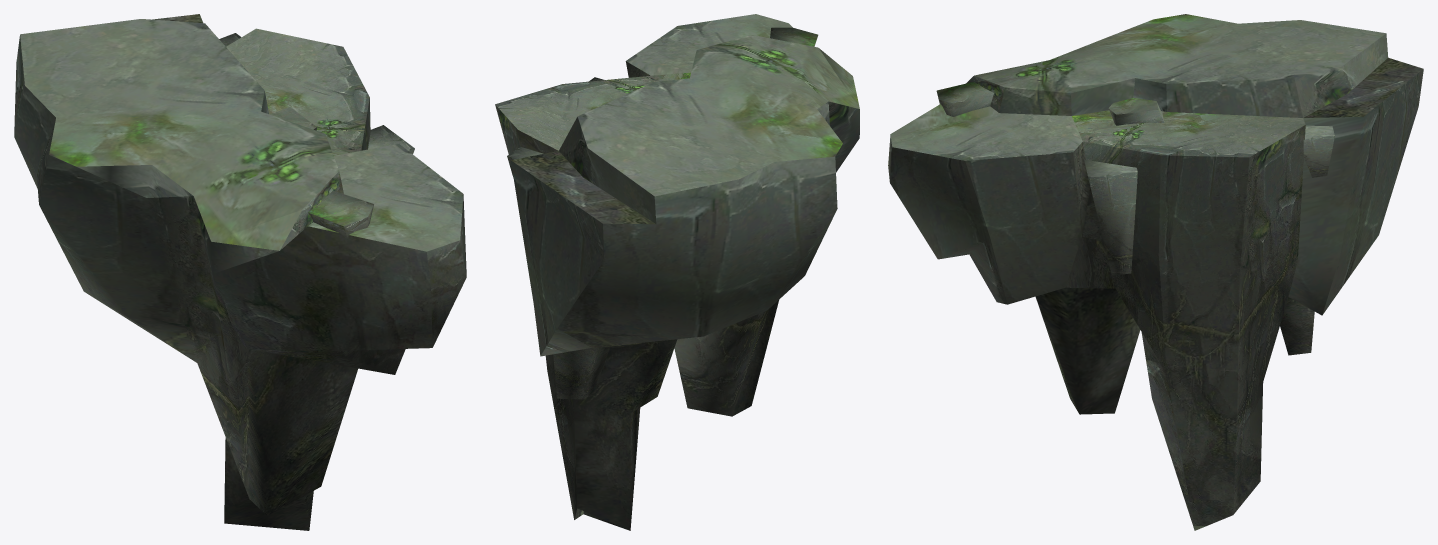
File: cj_xinshou_yabi02_53_40_3449out.fbx
3 renders of one model, left to right at view 1: azimuth 30°, elevation 25°; view 2: azimuth 150°, elevation 25°; view 3: azimuth 270°, elevation 25°, orthographic. The views are drawn at different scales.
Parts seen in each view (by area): view 1: cj_xinshou_yabi02; view 2: cj_xinshou_yabi02; view 3: cj_xinshou_yabi02.
Part boxes in pixels (<box>): cj_xinshou_yabi02: <box>14,14,466,530</box>; cj_xinshou_yabi02: <box>495,14,859,530</box>; cj_xinshou_yabi02: <box>888,14,1423,530</box>.
Bounding box in the file's own units: 4.09 × 5.58 × 6.27.
